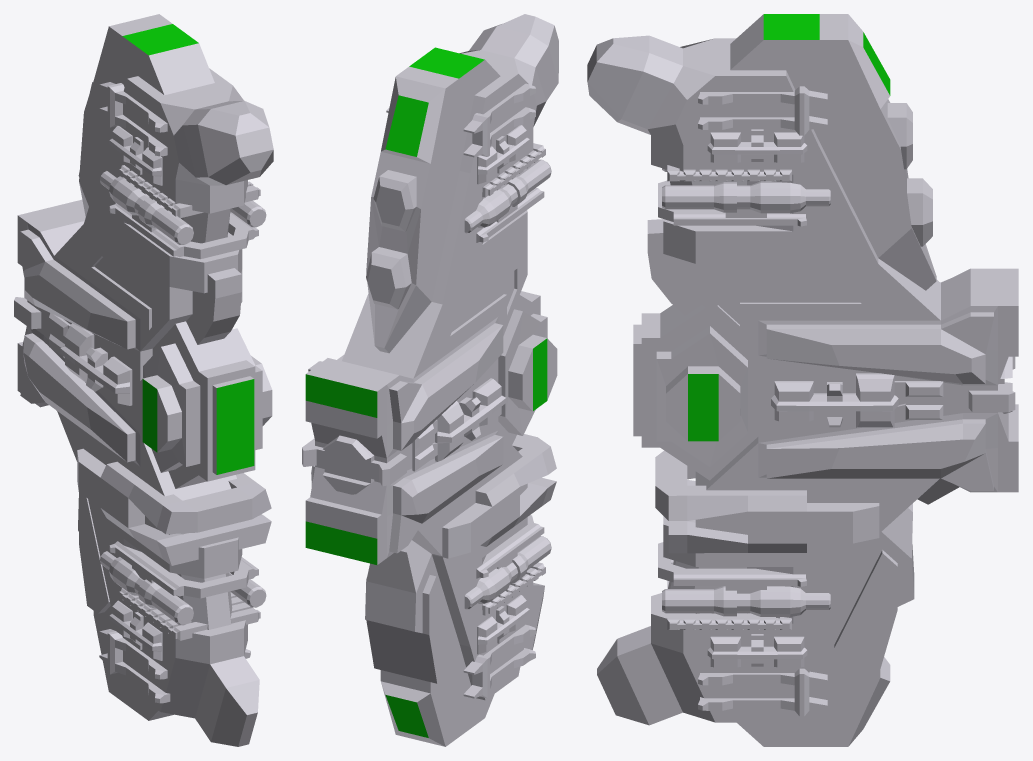
File: hull.tall.fbx
3 views of the same model, side by side, from view 1: azimuth 30°, elevation 25°; view 2: azimuth 150°, elevation 25°; view 3: azimuth 270°, elevation 25° (orthographic). The views are drawn at different scales.
Visible parts, largest first — view 1: hull.tall; view 2: hull.tall; view 3: hull.tall.
Part boxes in pixels (box(x1,y1,x2,y2)): hull.tall: box(14, 14, 273, 746); hull.tall: box(302, 14, 558, 746); hull.tall: box(587, 14, 1018, 746).
Bounding box in the file's own units: 2.44 × 14.52 × 8.03.
